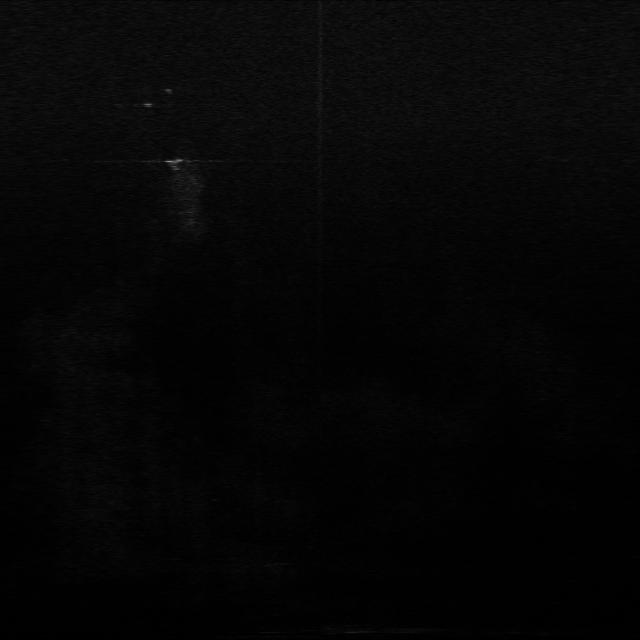rov: (158, 154, 190, 174)
